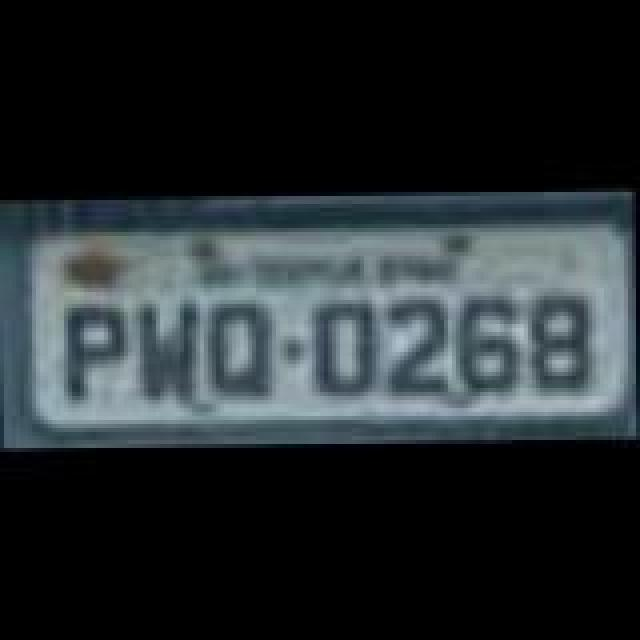2: (378, 298, 454, 398)
6: (450, 294, 526, 394)
8: (526, 290, 594, 398)
O: (312, 300, 376, 396)
P: (64, 304, 128, 400)
Q: (206, 304, 274, 400)
W: (134, 302, 202, 402)
